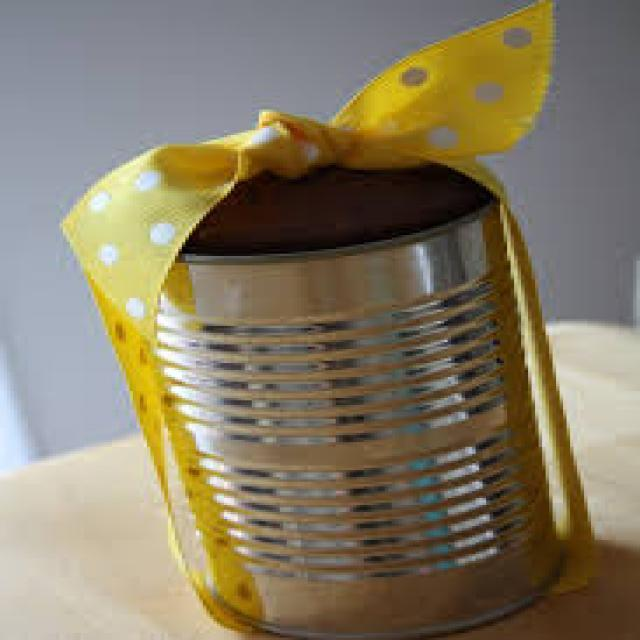metal-can: (102, 139, 569, 640)
